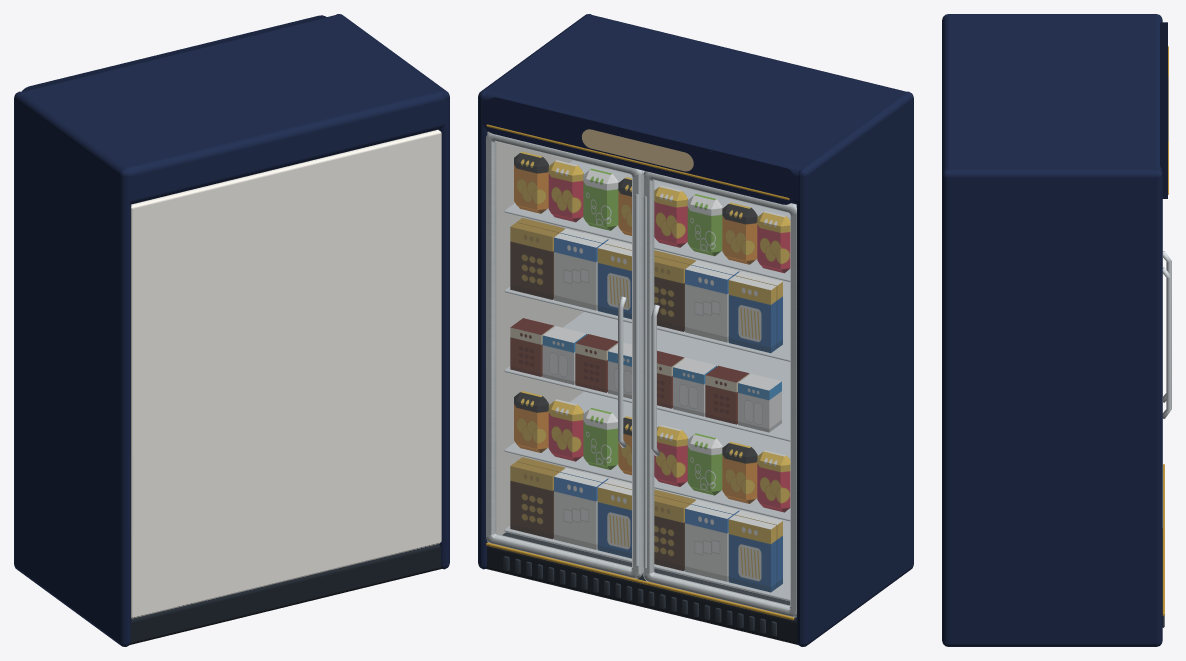
The model's file is freezer_T3.fbx.
3 renders of one model, left to right at view 1: azimuth 30°, elevation 25°; view 2: azimuth 150°, elevation 25°; view 3: azimuth 270°, elevation 25°, orthographic.
Visible parts, largest first — view 1: Body; view 2: Body, Anim Fill 0, Anim Fill 1, Anim Fill 2, Anim Fill 3; view 3: Body.
Part boxes in pixels (<box>): Body: <box>14,14,449,646</box>; Body: <box>478,14,913,646</box>; Anim Fill 0: <box>510,151,617,549</box>; Anim Fill 1: <box>583,168,695,570</box>; Anim Fill 2: <box>673,194,757,581</box>; Anim Fill 3: <box>728,211,790,592</box>; Body: <box>942,14,1171,646</box>.
Size of the model in its own units: 1.48 by 2.05 by 0.896.
